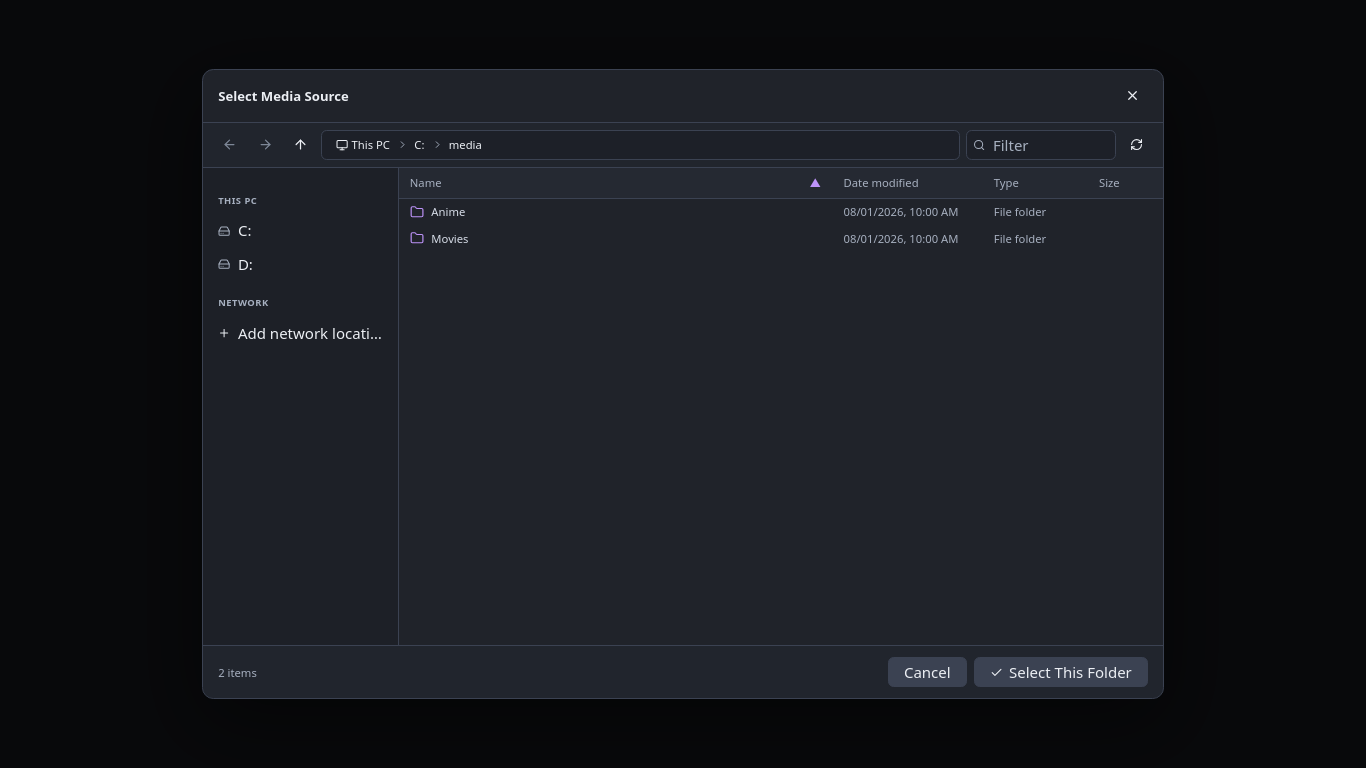
Scenario: file browser navigation › filters the current folder without navigating
Expected: the text "Anime" is shown, [431,204,465,219]
Type "mov" into the field named "filter this folder" at (1041, 145), box [966,130,1116,160]
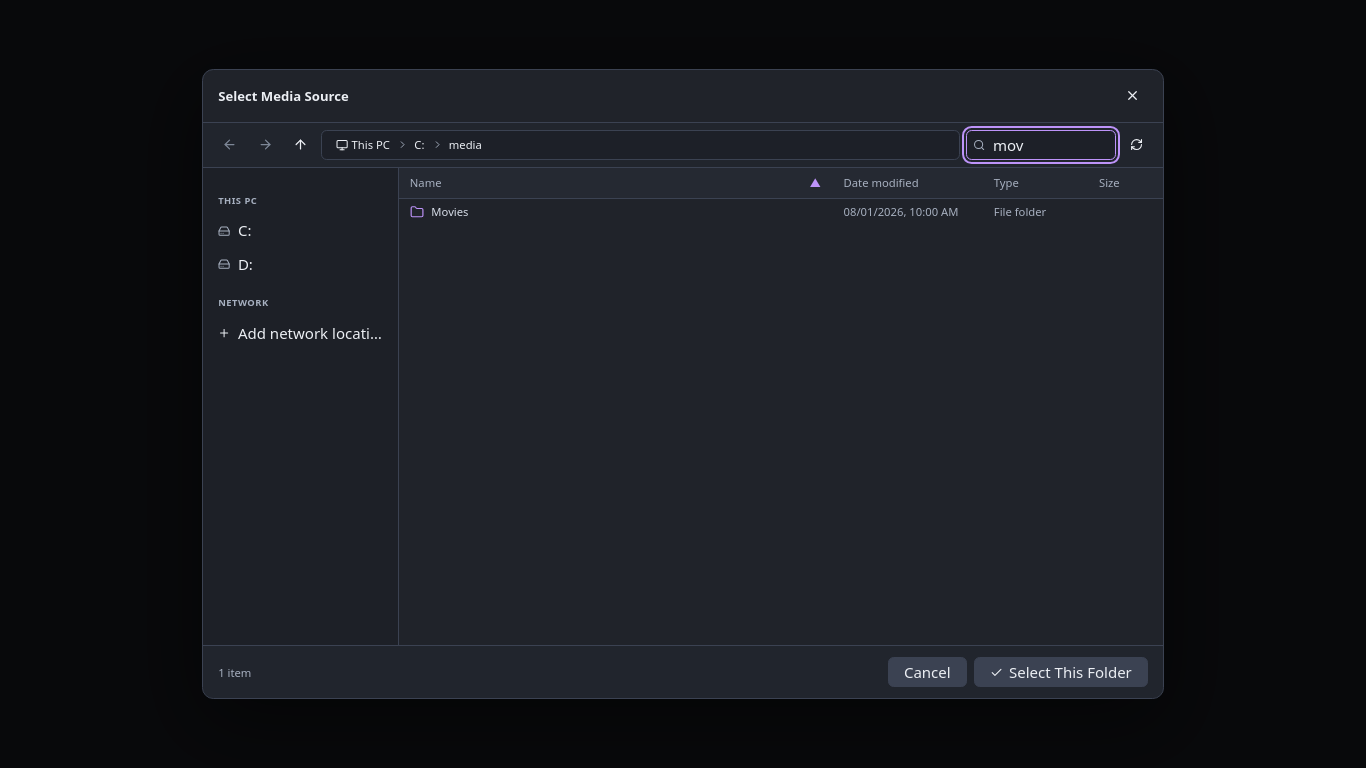
Expected: the text "Movies" is shown, [431,204,468,219]
Expected: the text "Anime" is gone
